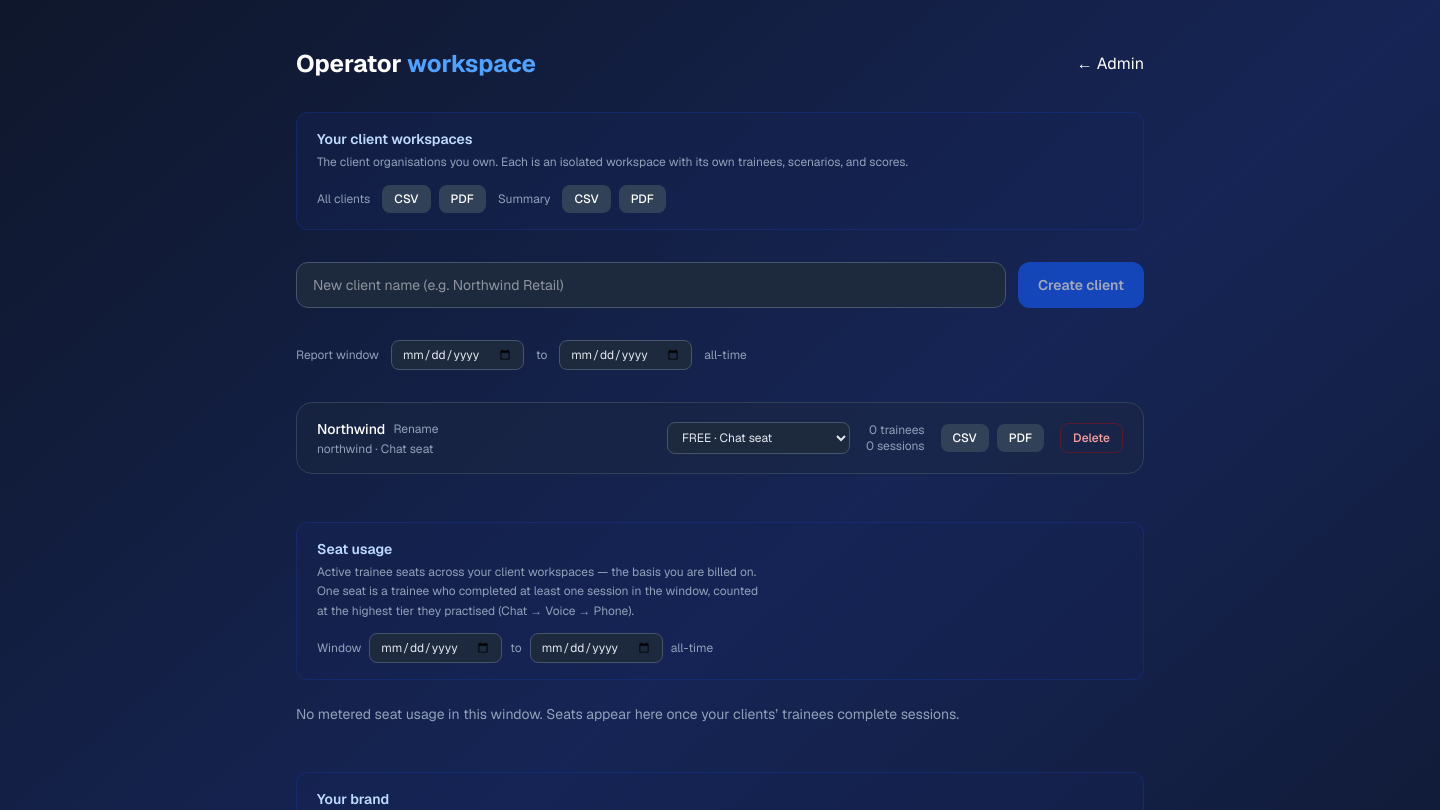
Test: Operator workspace — operator view › deletes a client after confirm and the row disappears on reload
Check: the text "Northwind" is shown, box [317,418,385,438]
Click the button with aria-label "Delete Northwind" at (1092, 438), box [1060,422,1123,452]
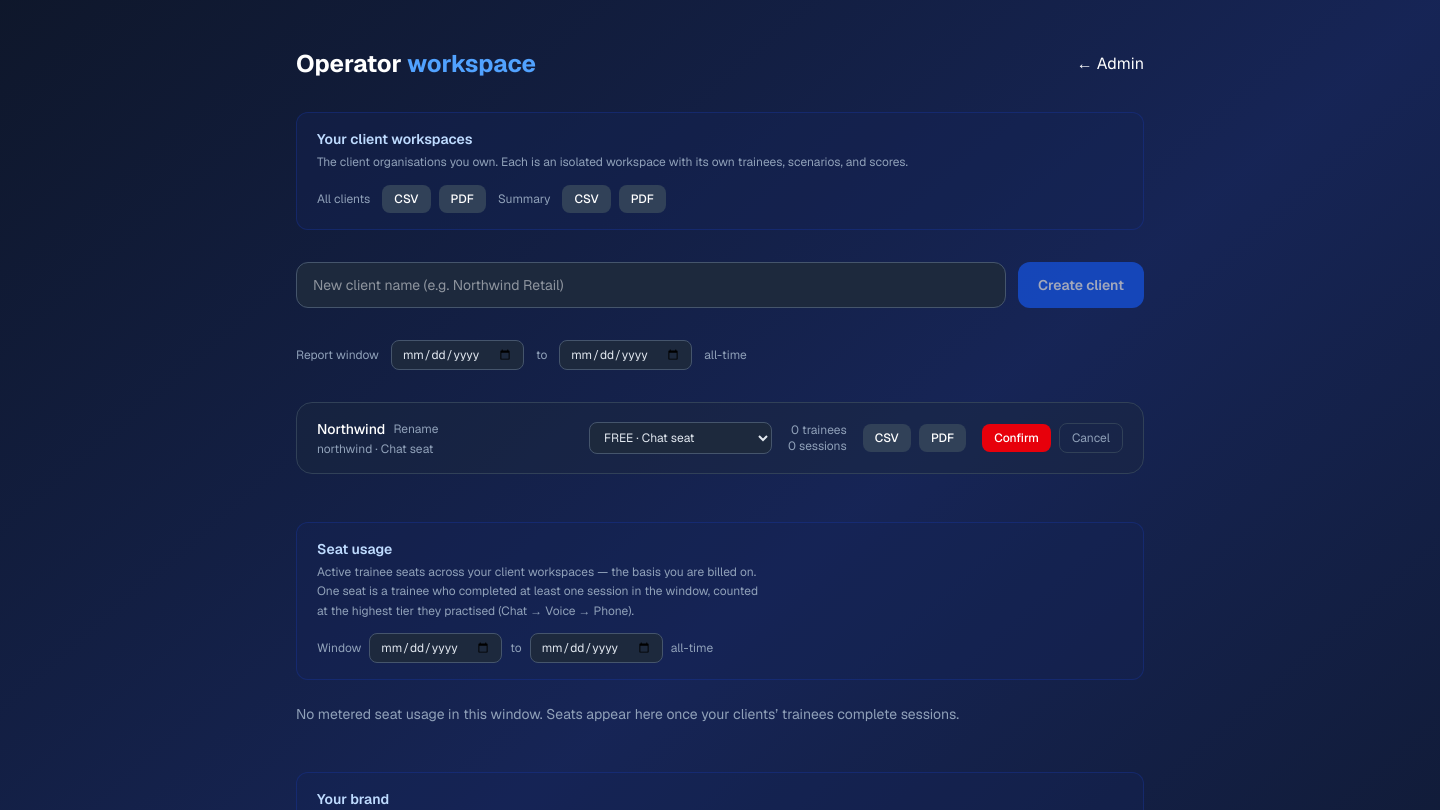
Click the button with aria-label "Confirm delete Northwind" at (1017, 438), box [982,424,1051,452]
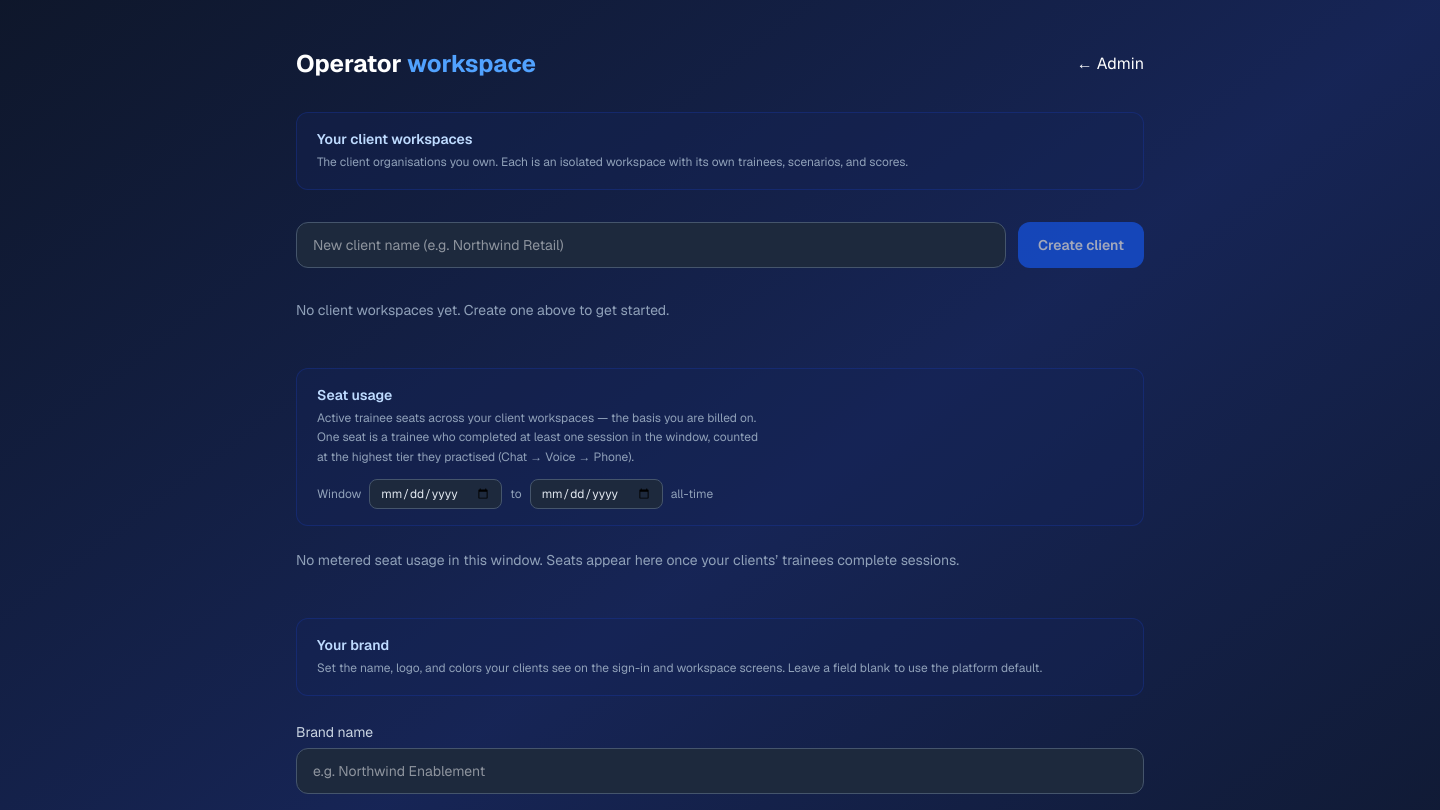
Check: the text "No client workspaces yet. Create one above to get started." is shown, box [296,300,669,318]
